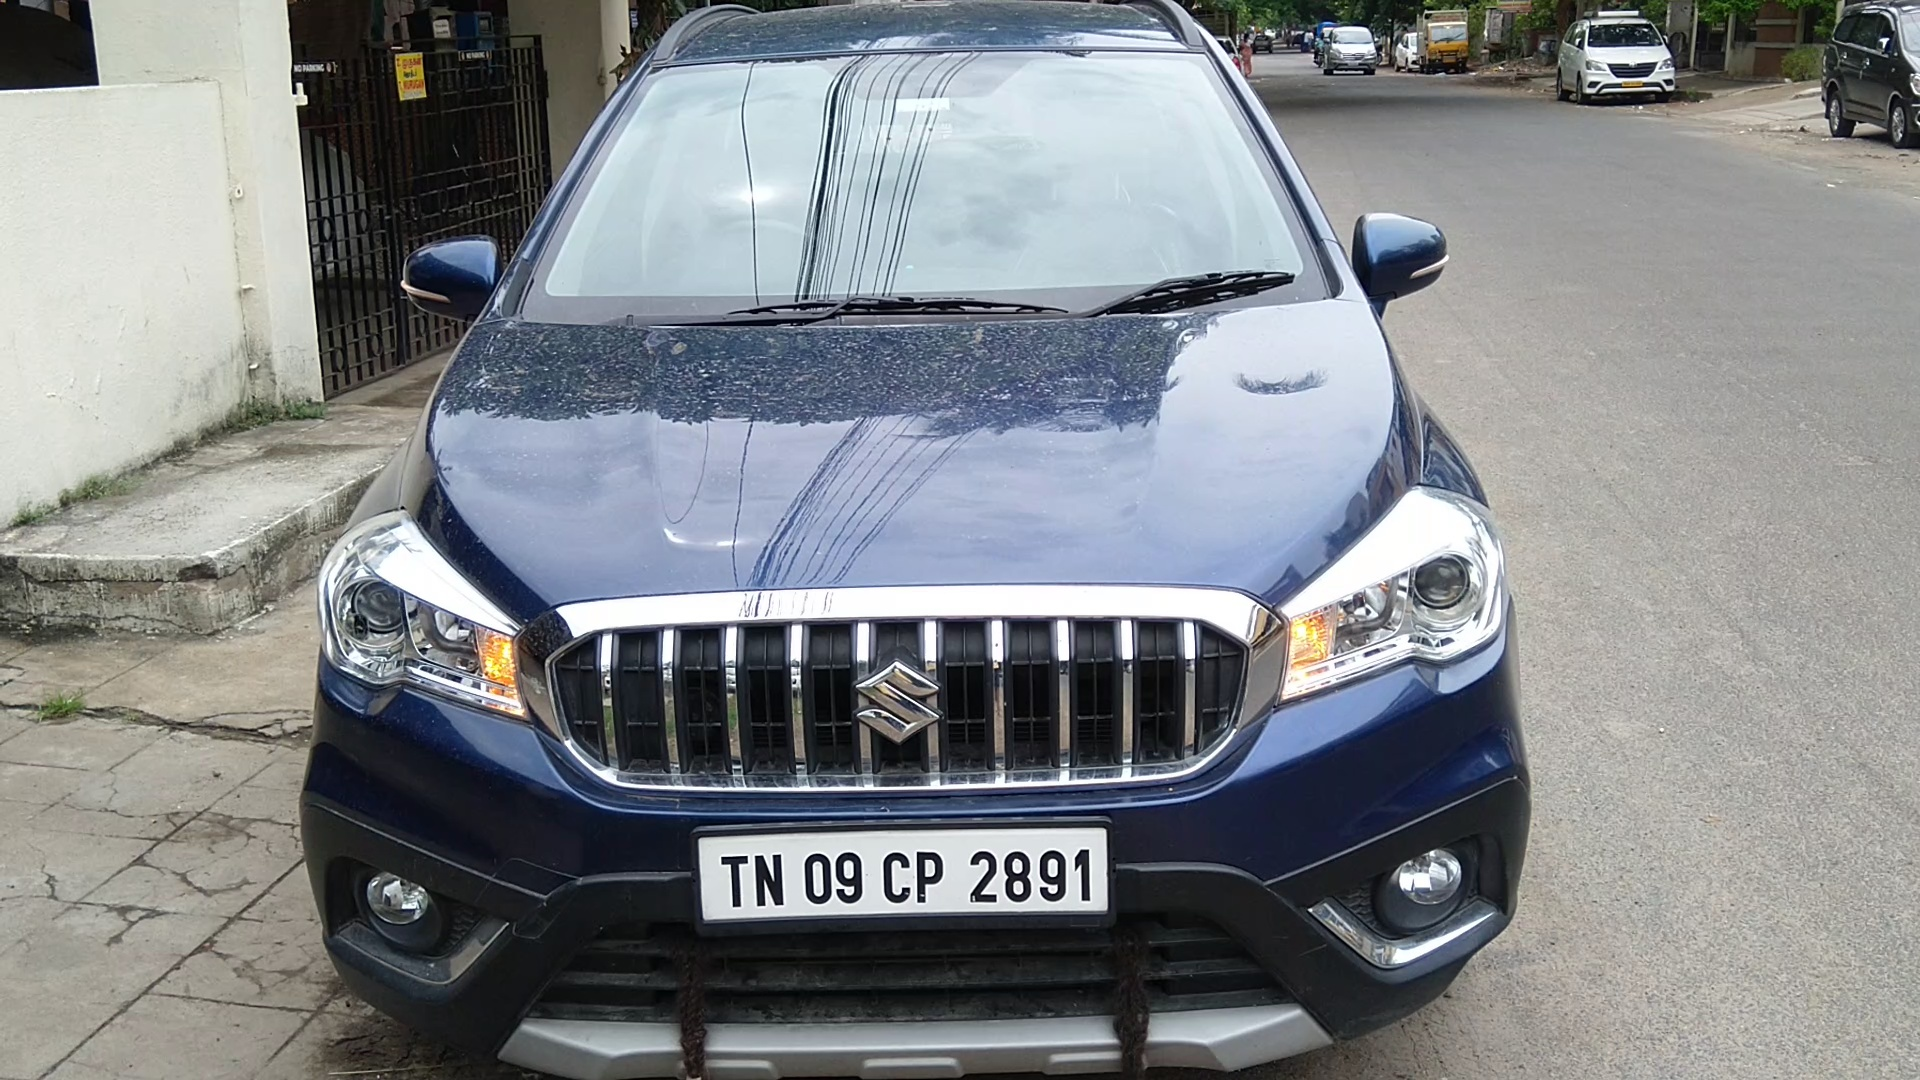front_grill: (521, 575, 1280, 812)
headlamp: (1286, 477, 1514, 723), (320, 506, 516, 735)
ovr_mirror: (1352, 202, 1455, 324), (396, 225, 504, 330)
